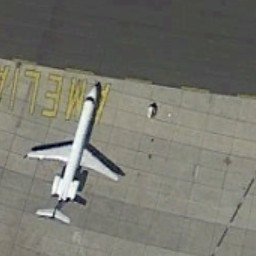Airplane: (16, 71, 127, 230)
